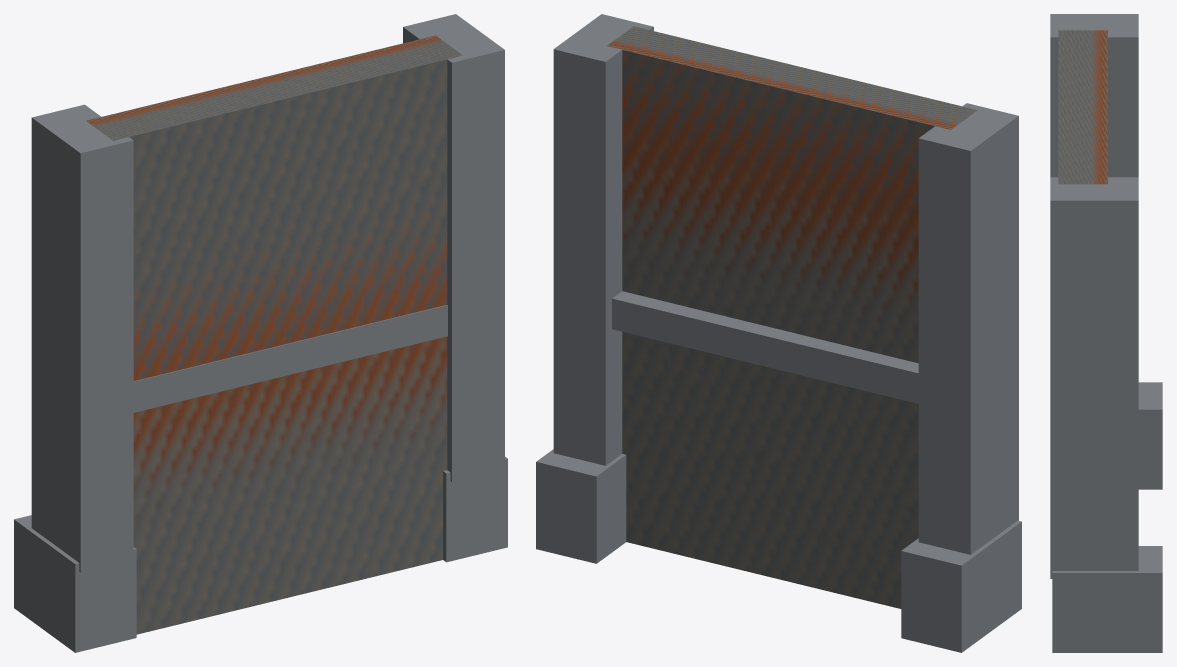
File: wall_bunker_panel.glb
3 views of the same model, side by side, from view 1: azimuth 30°, elevation 25°; view 2: azimuth 150°, elevation 25°; view 3: azimuth 270°, elevation 25° (orthographic). The views are drawn at different scales.
Visible parts, largest first — view 1: Cube, Cube.001, Cube.003, Cube.002, Cube.005, Cube.004; view 2: Cube, Cube.001, Cube.003, Cube.005, Cube.002, Cube.004; view 3: Cube.003, Cube.004, Cube, Cube.001, Cube.002.
Part boxes in pixels (x1=…): Cube: x1=86, y1=35, x2=462, y2=634; Cube.001: x1=31, y1=104, x2=133, y2=572; Cube.003: x1=403, y1=14, x2=504, y2=482; Cube.002: x1=14, y1=515, x2=136, y2=652; Cube.005: x1=133, y1=305, x2=447, y2=412; Cube.004: x1=443, y1=456, x2=507, y2=562; Cube: x1=607, y1=26, x2=977, y2=608; Cube.001: x1=918, y1=103, x2=1018, y2=554; Cube.003: x1=553, y1=14, x2=653, y2=465; Cube.005: x1=612, y1=291, x2=918, y2=403; Cube.002: x1=901, y1=520, x2=1021, y2=652; Cube.004: x1=536, y1=449, x2=626, y2=563; Cube.003: x1=1050, y1=177, x2=1138, y2=578; Cube.004: x1=1052, y1=546, x2=1162, y2=652; Cube: x1=1058, y1=30, x2=1107, y2=184; Cube.001: x1=1050, y1=14, x2=1138, y2=177; Cube.002: x1=1138, y1=382, x2=1162, y2=489.
Bounding box in the file's own units: 4.08 × 4.5 × 1.02.
3 materials, 1 textured.
